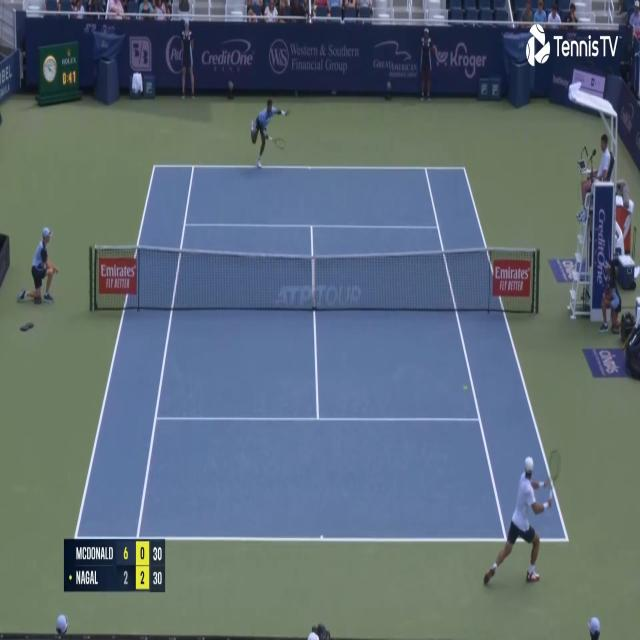tennis-player: (480, 453, 560, 595), (248, 92, 290, 173)
